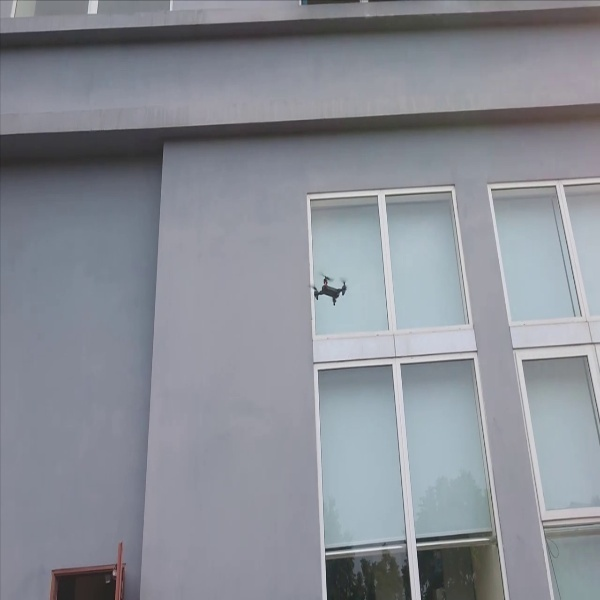drone: (306, 260, 356, 310)
